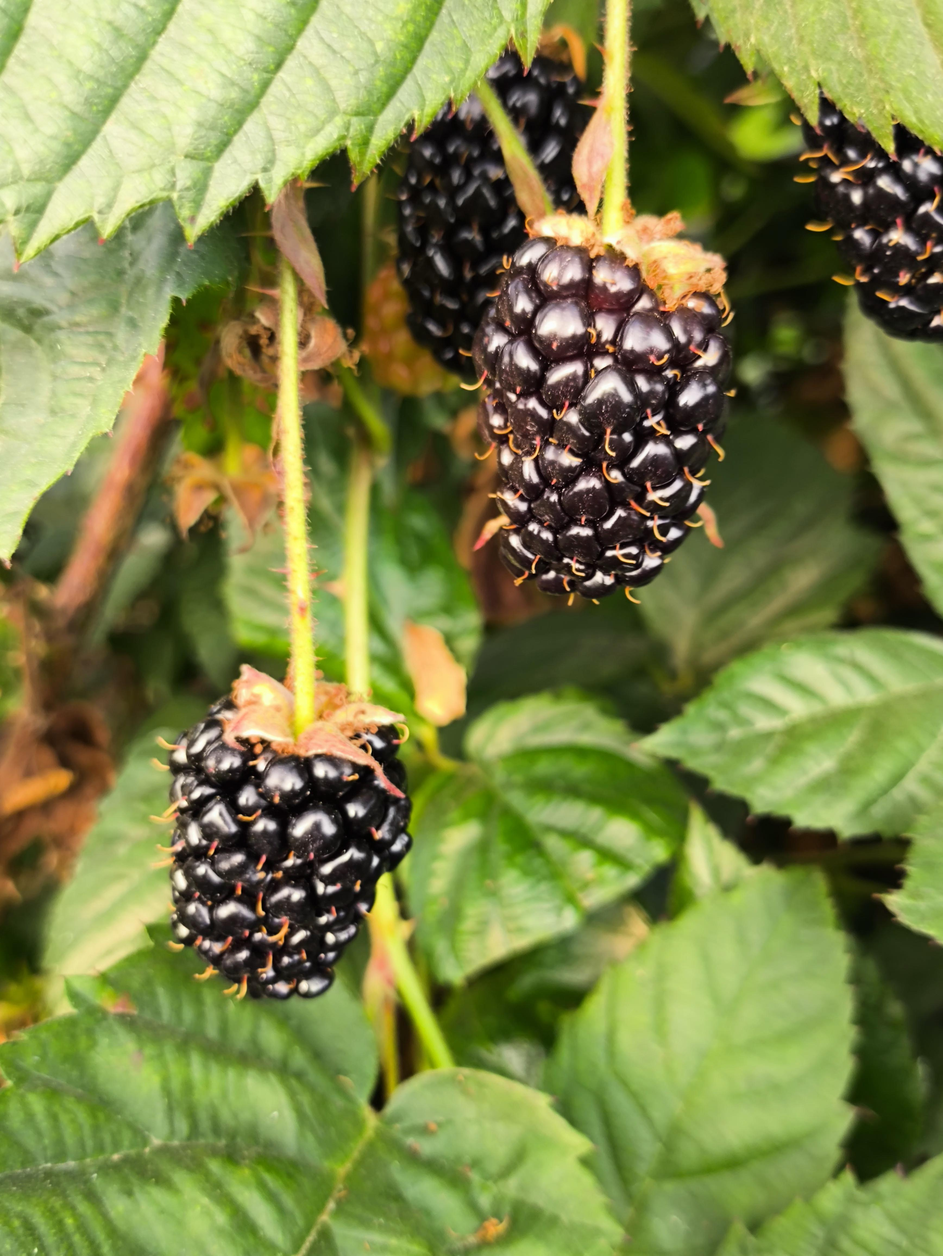maduro: (477, 220, 728, 600), (170, 695, 402, 998), (803, 94, 943, 342)
